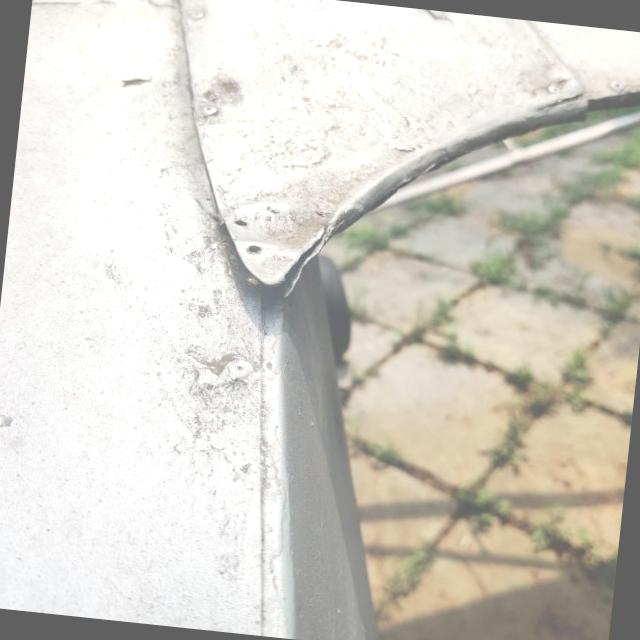crack: (252, 190, 358, 318)
